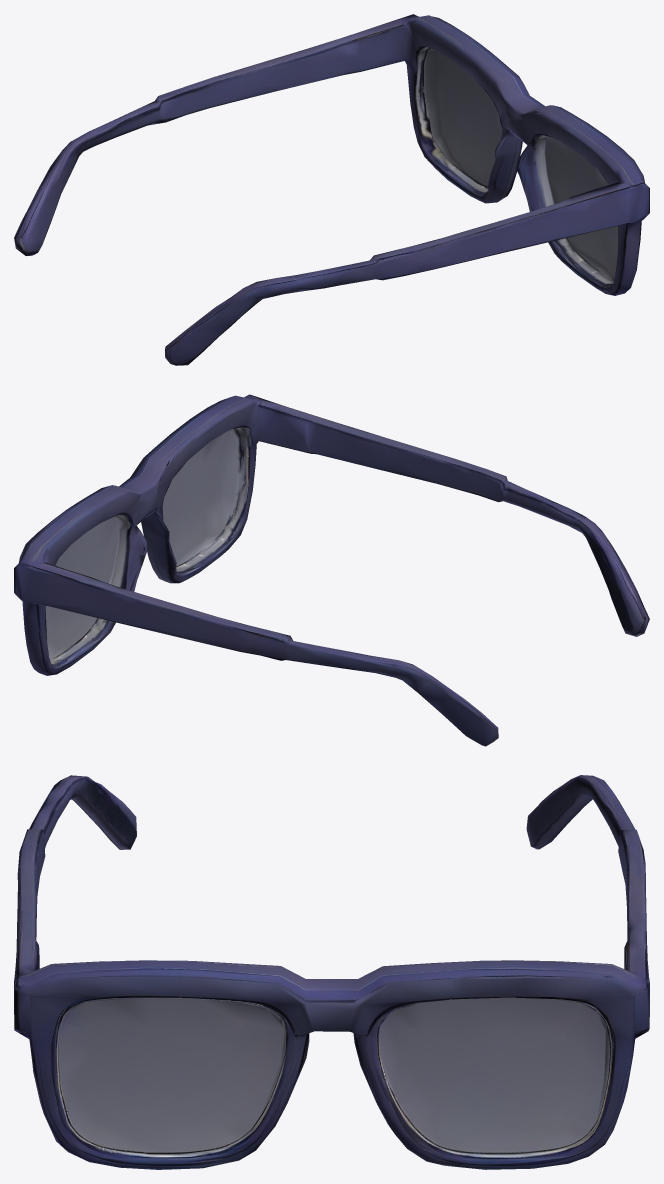
File: prop_glasses-browline_e6ac1c.glb
3 renders of one model, top to bottom at view 1: azimuth 30°, elevation 25°; view 2: azimuth 150°, elevation 25°; view 3: azimuth 270°, elevation 25°, orthographic. The views are drawn at different scales.
Visible parts, largest first — view 1: tripo_node_f40cbb28-f2c7-4c82-8eda-120fe25fe263; view 2: tripo_node_f40cbb28-f2c7-4c82-8eda-120fe25fe263; view 3: tripo_node_f40cbb28-f2c7-4c82-8eda-120fe25fe263.
Boxes of the visible parts, x1,y1,x2,y2 form: tripo_node_f40cbb28-f2c7-4c82-8eda-120fe25fe263: (14, 14, 649, 365); tripo_node_f40cbb28-f2c7-4c82-8eda-120fe25fe263: (14, 394, 649, 746); tripo_node_f40cbb28-f2c7-4c82-8eda-120fe25fe263: (14, 775, 649, 1169).
Size of the model in its own units: 0.9998 by 0.3114 by 0.887.
Materials: 1 (1 with a texture image).
